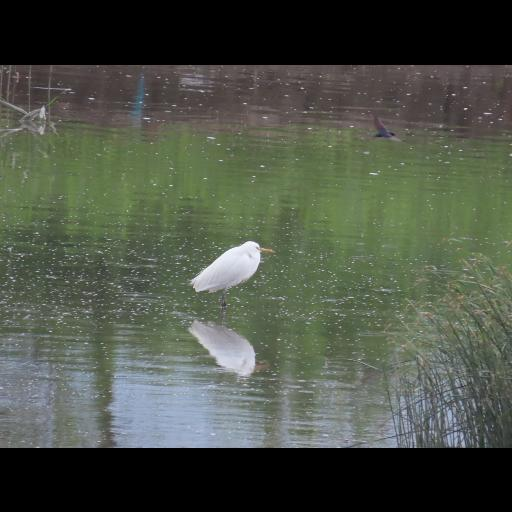chinese_egret: (188, 240, 276, 310)
